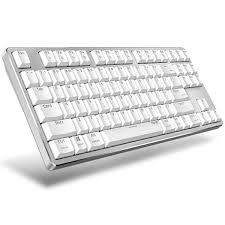keyboard: (0, 36, 223, 172)
